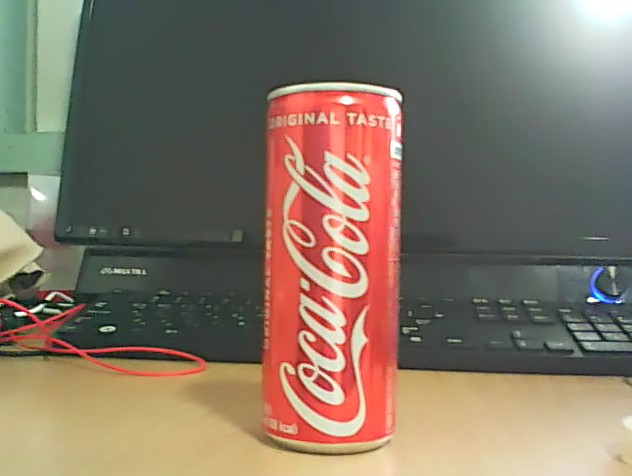Can: (258, 76, 410, 459)
